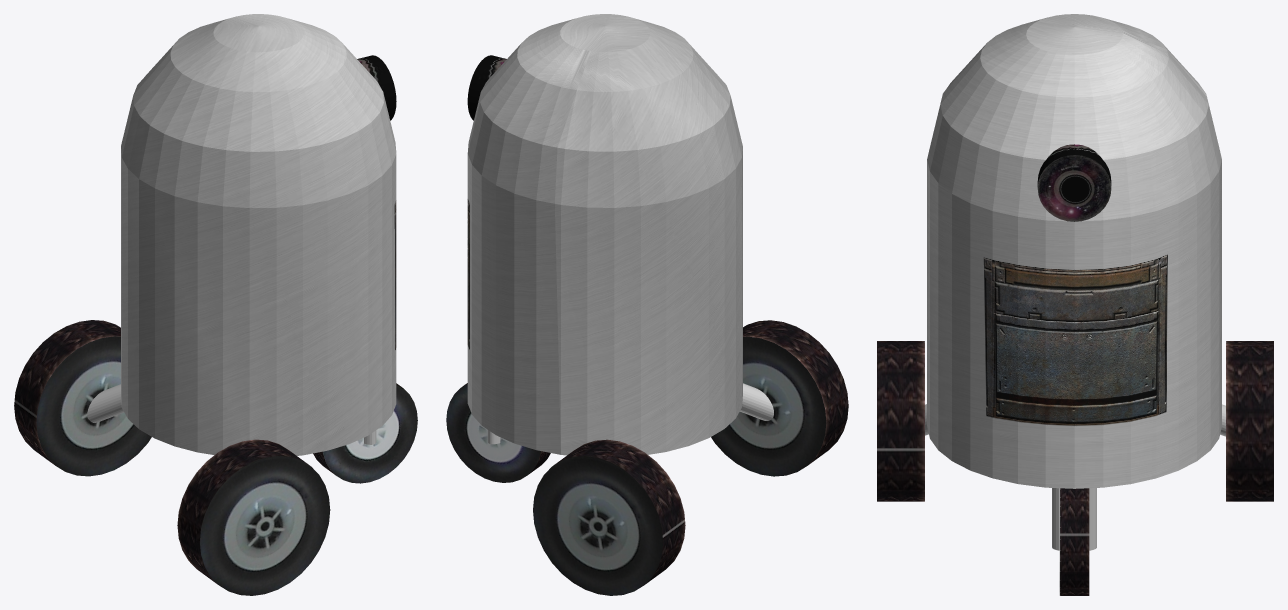
Rendered from wheelbot2.dae.
3 views of the same model, side by side, from view 1: azimuth 30°, elevation 25°; view 2: azimuth 150°, elevation 25°; view 3: azimuth 270°, elevation 25° (orthographic). The views are drawn at different scales.
Visible parts, largest first — view 1: body, t_1, t_2, t_3, eye, transmission_001; view 2: body, t_2, t_1, t_3, eye, transmission_002; view 3: body, t_2, t_1, eye, t_3, control.
Part boxes in pixels (x1,y1,x2,y2): body: [121, 14, 396, 455]; t_1: [177, 439, 330, 595]; t_2: [14, 320, 151, 476]; t_3: [313, 383, 417, 483]; eye: [357, 55, 396, 120]; transmission_001: [87, 384, 123, 422]; body: [467, 14, 742, 455]; t_2: [533, 439, 685, 595]; t_1: [711, 320, 848, 476]; t_3: [446, 383, 550, 482]; eye: [467, 55, 506, 120]; transmission_002: [740, 383, 773, 420]; body: [927, 14, 1221, 488]; t_2: [1226, 341, 1273, 501]; t_1: [877, 341, 924, 501]; eye: [1037, 144, 1111, 221]; t_3: [1059, 488, 1089, 595]; control: [1052, 488, 1096, 550].
Size of the model in its own units: 2.54 by 2.69 by 3.83.
5 materials, 4 textured.
